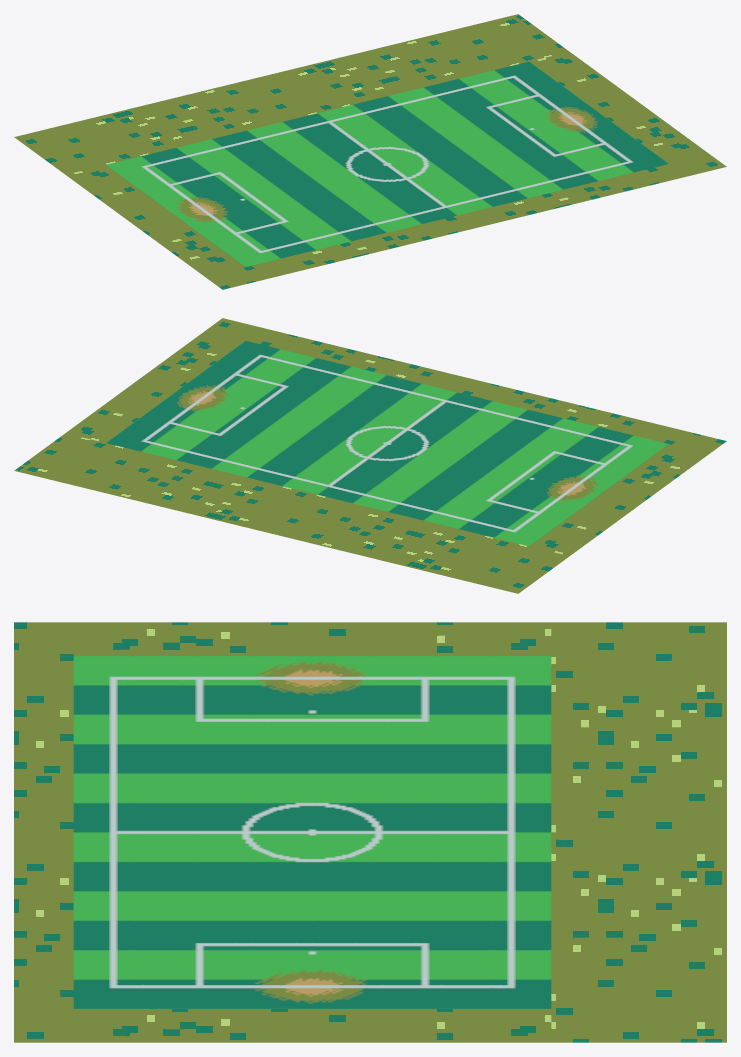
File: ground.glb
The picture shows the model from 3 angles, top to bottom: view 1: azimuth 30°, elevation 25°; view 2: azimuth 150°, elevation 25°; view 3: azimuth 270°, elevation 25°; orthographic projection. The views are drawn at different scales.
Parts seen in each view (by area): view 1: Ground; view 2: Ground; view 3: Ground.
Part boxes in pixels (<box>): Ground: <box>14,14,726,289</box>; Ground: <box>14,318,726,593</box>; Ground: <box>14,622,726,1042</box>.
Bounding box in the file's own units: 30 × 0 × 21.5.
2 materials, 2 textured.
